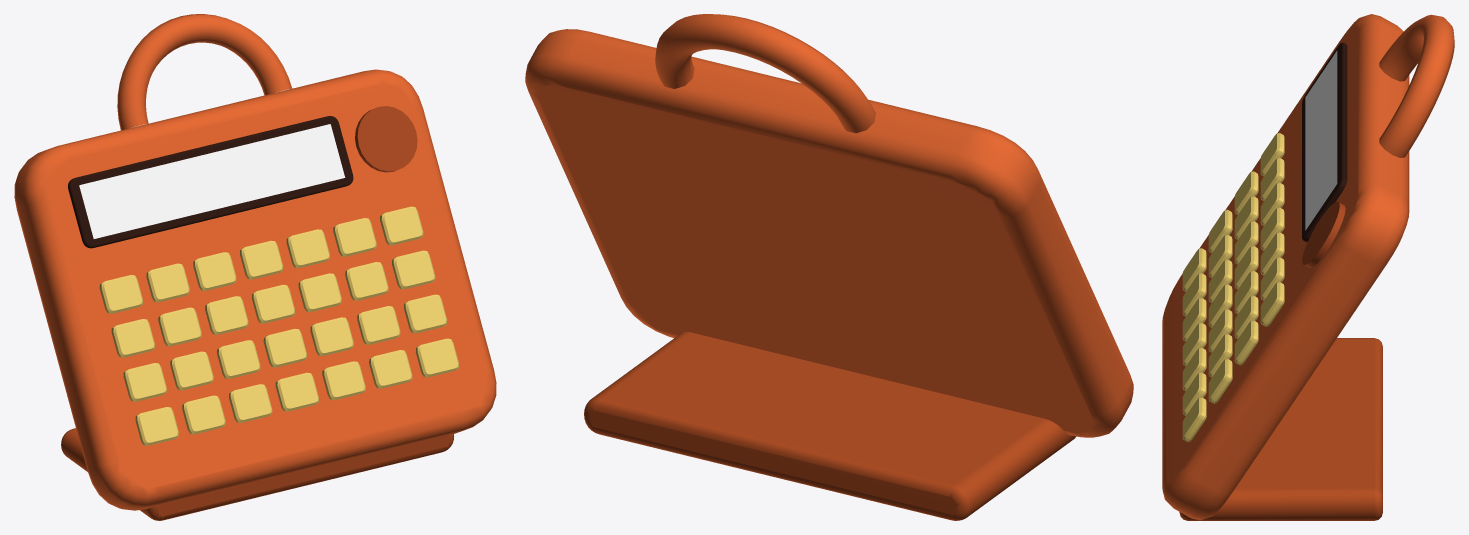
The model's file is learner.glb.
3 renders of one model, left to right at view 1: azimuth 30°, elevation 25°; view 2: azimuth 150°, elevation 25°; view 3: azimuth 270°, elevation 25°, orthographic. The views are drawn at different scales.
Parts seen in each view (by area): view 1: Shell, Key, Screen, Bezel, Foot, Grille; view 2: Shell, Foot; view 3: Shell, Foot, Key, Screen, Bezel, Grille.
Part boxes in pixels (x1,y1,x2,y2): Shell: (14,14,496,510); Key: (99,206,458,445); Screen: (79,124,345,238); Bezel: (68,116,353,248); Foot: (61,428,454,520); Grille: (355,106,417,172); Shell: (525,14,1133,437); Foot: (584,332,1076,520); Shell: (1162,14,1454,520); Foot: (1179,338,1382,520); Key: (1182,132,1284,441); Screen: (1305,50,1337,230); Bezel: (1302,42,1347,241); Grille: (1302,201,1345,268).
Size of the model in its own units: 0.44 by 0.4091 by 0.2589.
